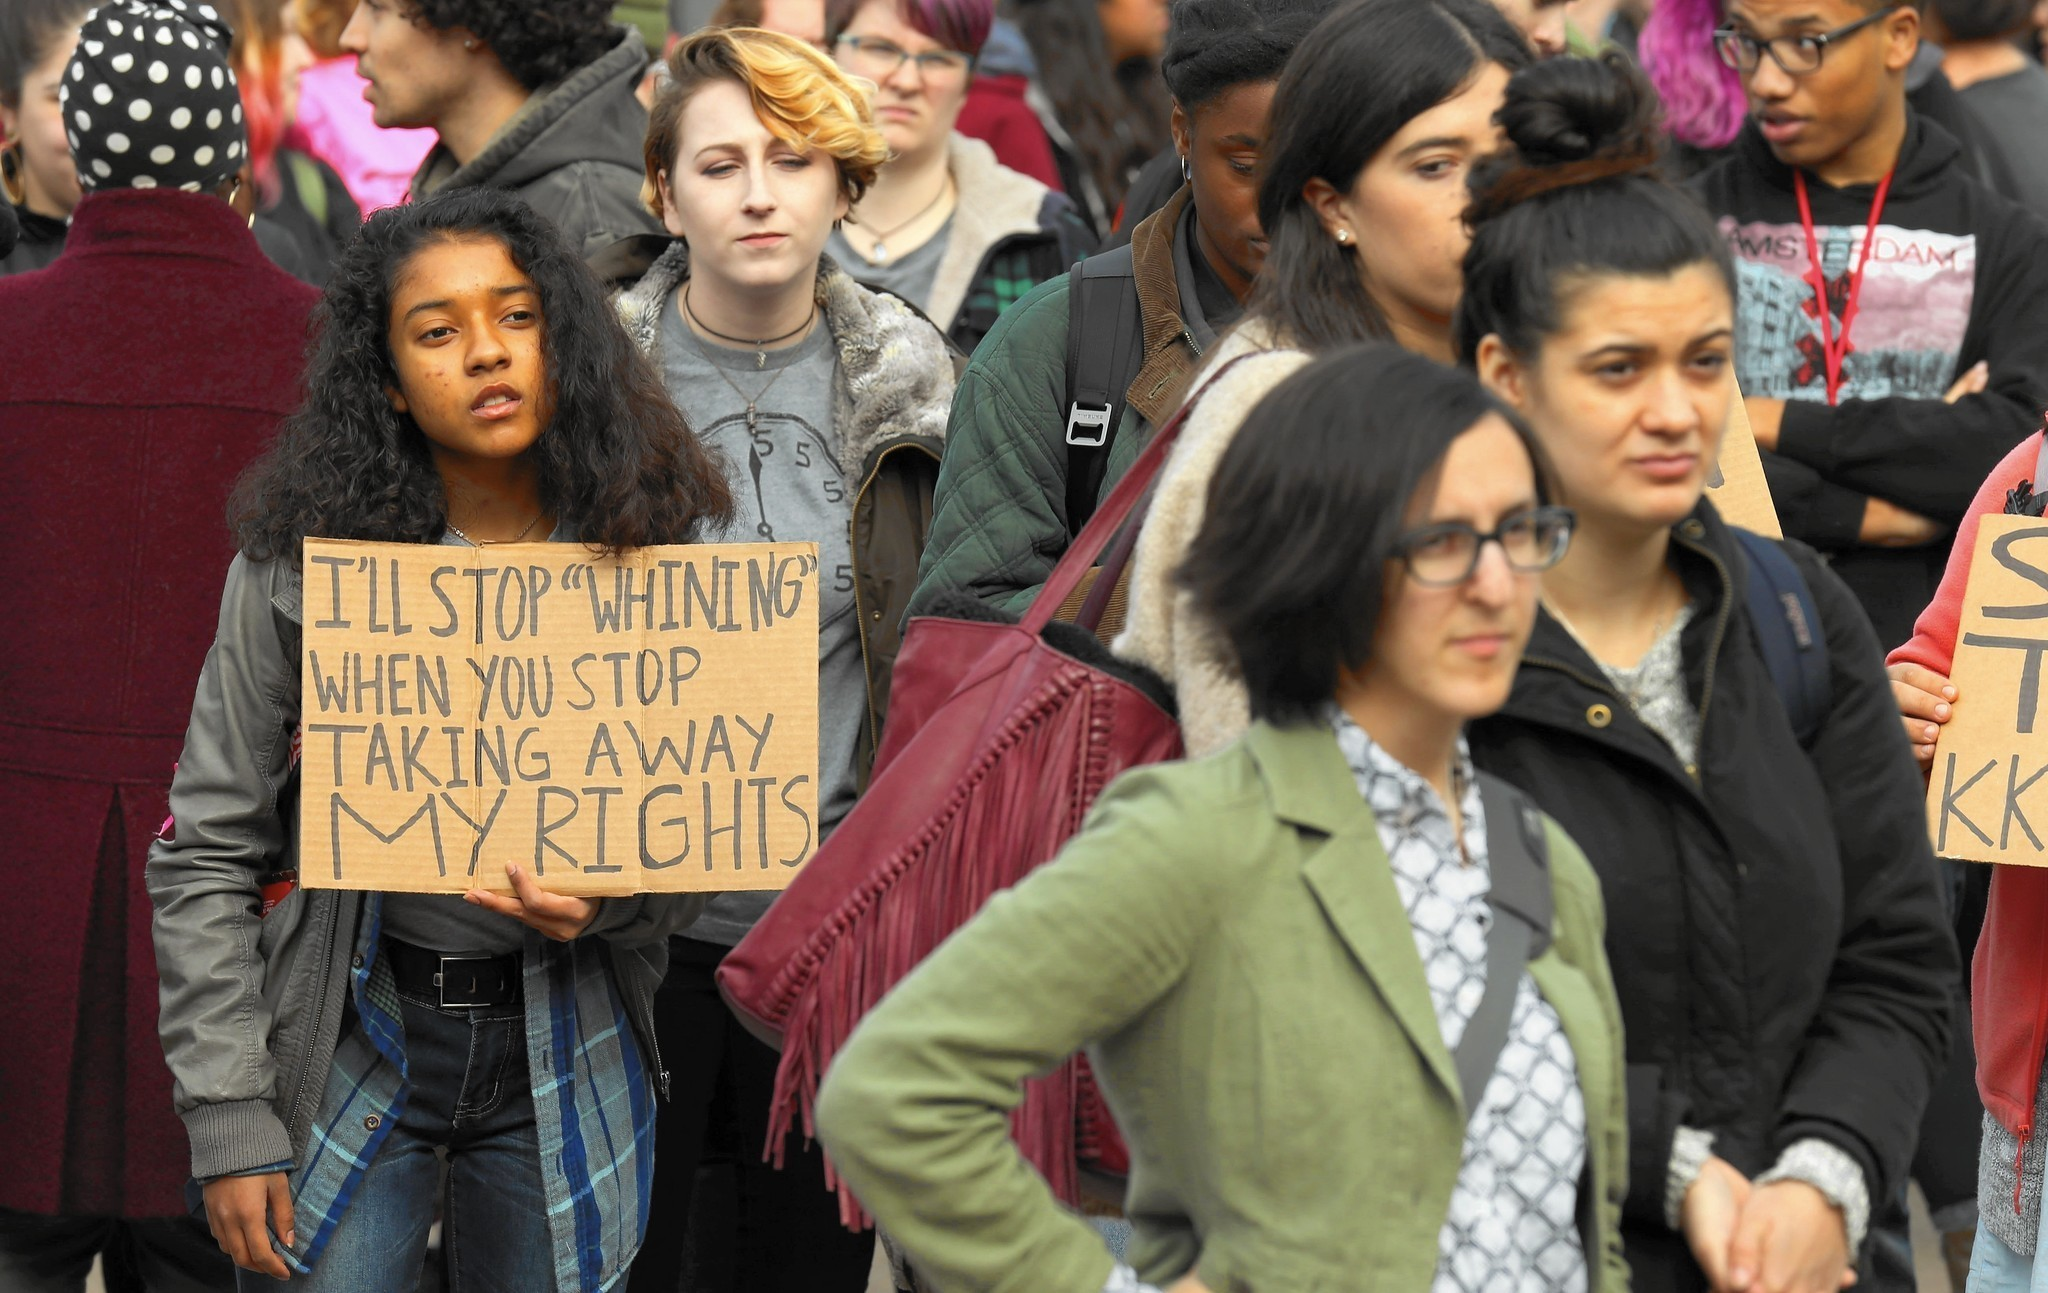sad: (340, 243, 578, 465), (658, 50, 843, 300)
